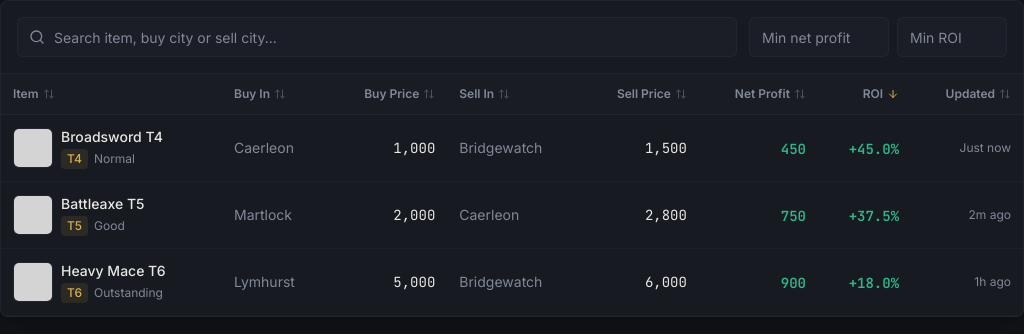
it: ArbitrageTable › deve filtrar por lucro minimo
Type "500" into the number field with placeholder "Min net profit" at (819, 37), box x1=749 y1=17 x2=889 y2=57
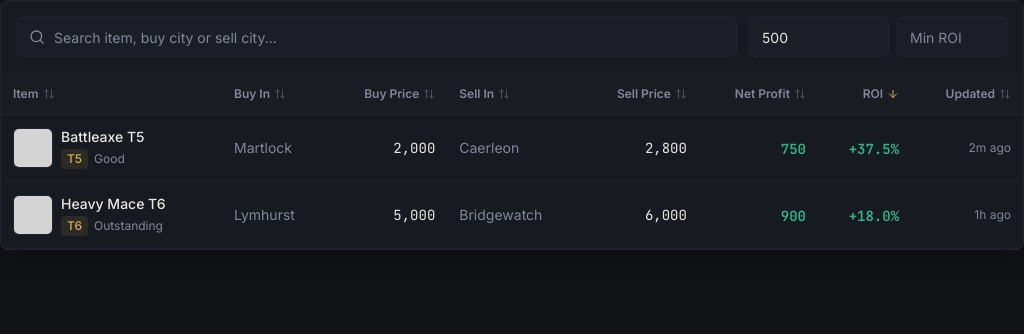
Expected: the text "Battleaxe T5" is shown, x1=61 y1=127 x2=144 y2=147
Expected: the text "Broadsword T4" is gone
